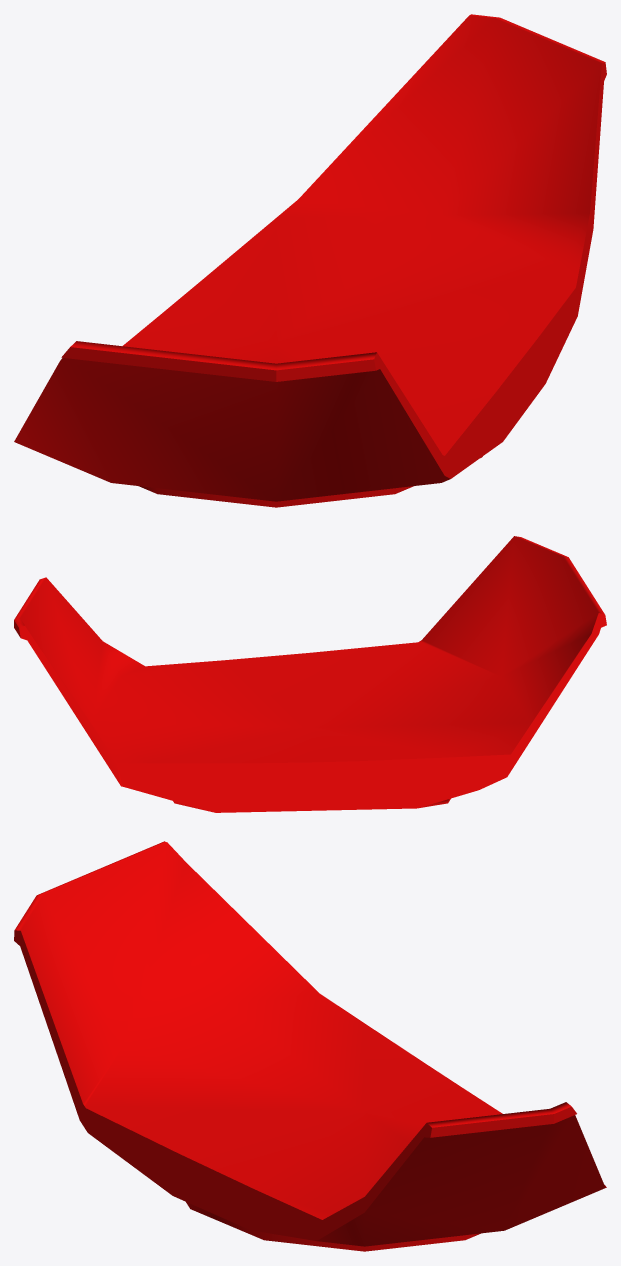
The model's file is BrokenBowl_2.fbx.
The picture shows the model from 3 angles, top to bottom: view 1: azimuth 30°, elevation 25°; view 2: azimuth 150°, elevation 25°; view 3: azimuth 270°, elevation 25°; orthographic projection. The views are drawn at different scales.
Visible parts, largest first — view 1: BrokenBowl_2; view 2: BrokenBowl_2; view 3: BrokenBowl_2.
Part boxes in pixels (x1=…): BrokenBowl_2: x1=14, y1=14, x2=606, y2=507; BrokenBowl_2: x1=14, y1=536, x2=606, y2=812; BrokenBowl_2: x1=14, y1=841, x2=606, y2=1251.
Size of the model in its own units: 120 by 37.57 by 104.
